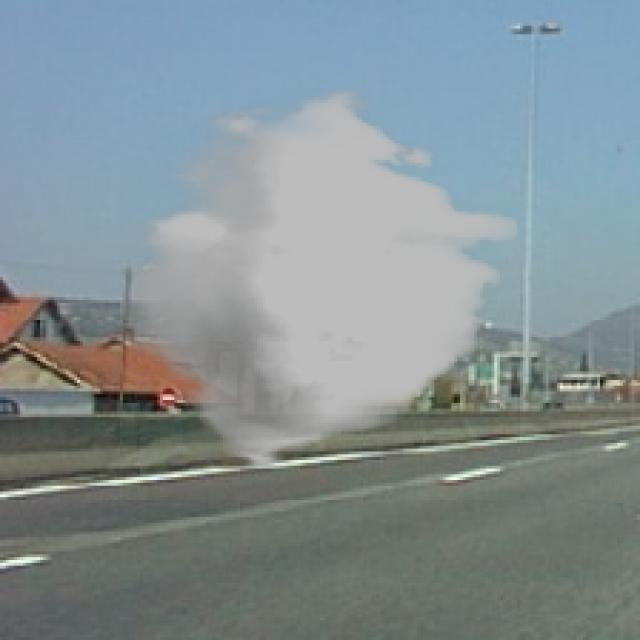smoke: (120, 89, 517, 468)
